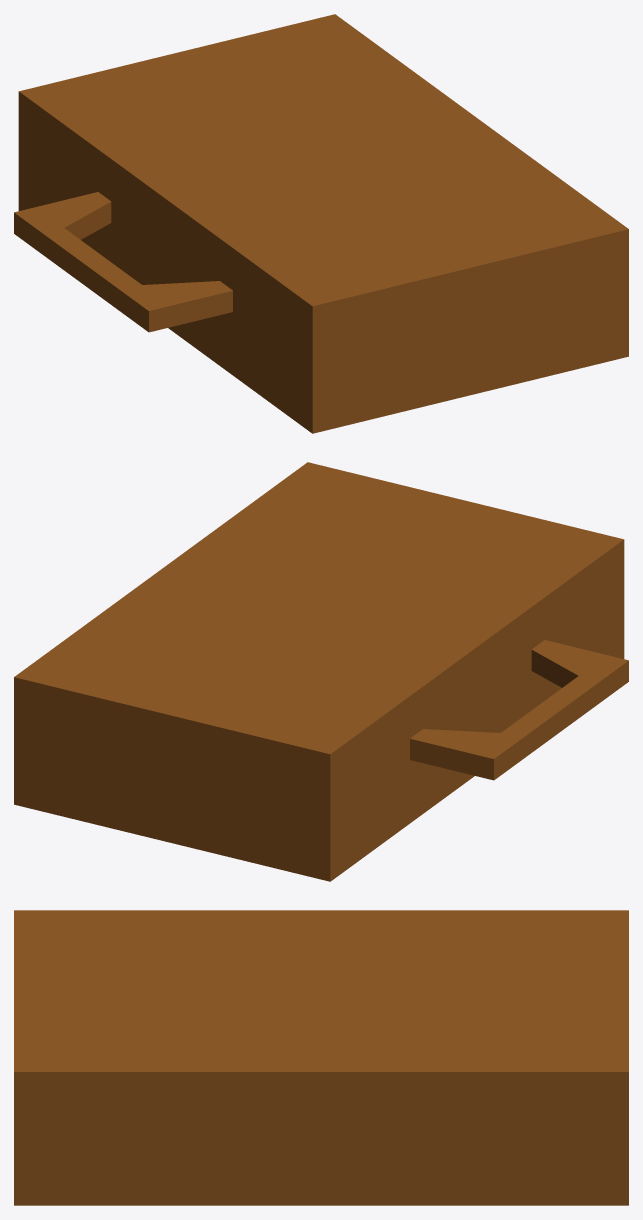
Rendered from LuggageA.fbx.
The picture shows the model from 3 angles, top to bottom: view 1: azimuth 30°, elevation 25°; view 2: azimuth 150°, elevation 25°; view 3: azimuth 270°, elevation 25°; orthographic projection. The views are drawn at different scales.
Parts seen in each view (by area): view 1: LuggageATop, LuggageA; view 2: LuggageATop, LuggageA; view 3: LuggageATop, LuggageA.
Part boxes in pixels (bbox=[...]): LuggageATop: bbox=[14, 14, 628, 369]; LuggageA: bbox=[18, 155, 628, 433]; LuggageATop: bbox=[14, 462, 628, 817]; LuggageA: bbox=[14, 603, 624, 881]; LuggageATop: bbox=[14, 910, 628, 1138]; LuggageA: bbox=[14, 1138, 628, 1205].
Bounding box in the file's own units: 25.51 × 7.75 × 32.39.
1 material, 1 textured.
